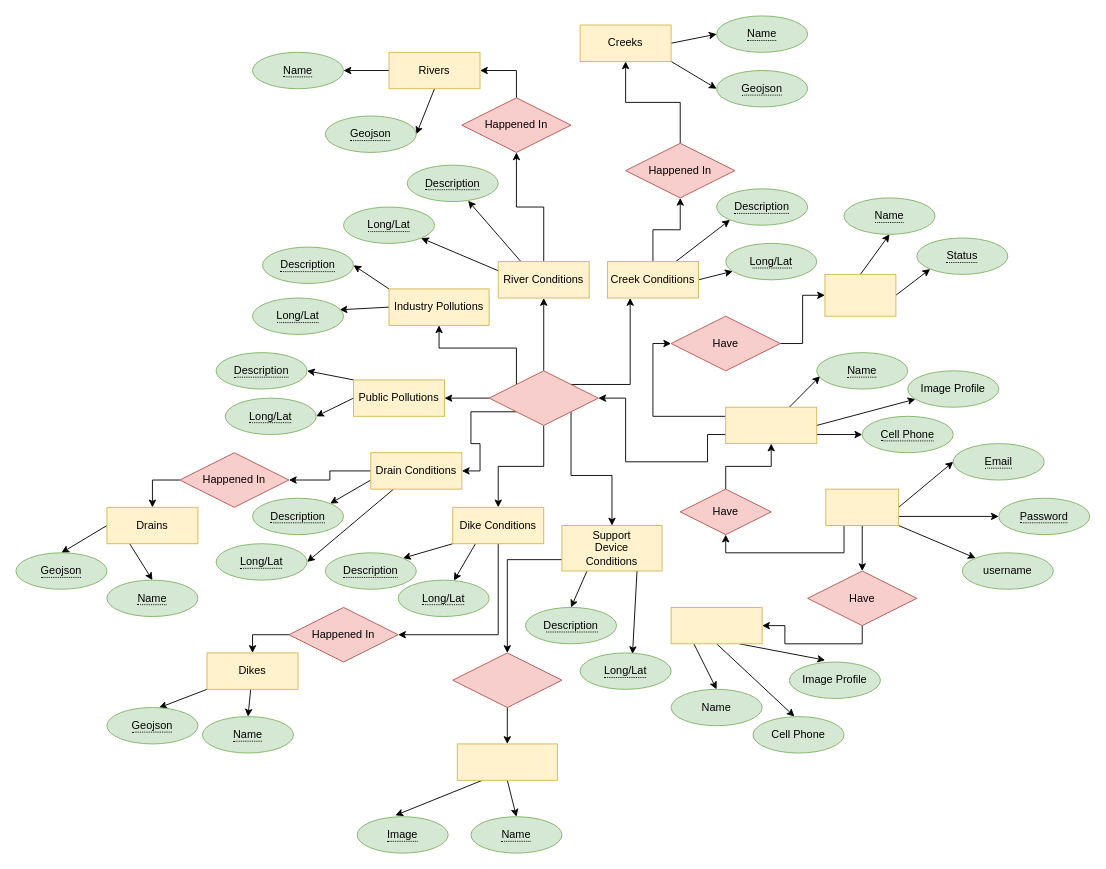
The diagram is 1106 pixels wide and 869 high, and some of its shapes have lost their labels. The box of each missing label's shape, as (x1, y1, x2, y2) in pixels:
Administrators: (670, 607, 762, 644)
Comprise: (452, 652, 562, 708)
Input: (488, 370, 598, 425)
Observers: (725, 406, 817, 444)
Support Devices: (456, 743, 557, 780)
Units: (824, 273, 896, 316)
Users: (825, 488, 899, 526)
